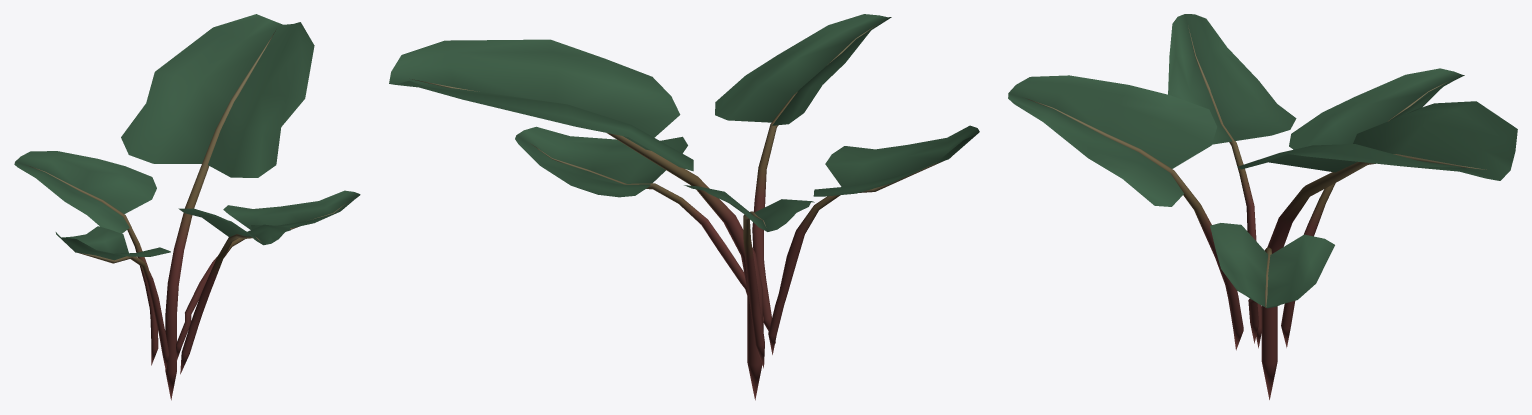
File: plants-leafy-plants-elephant-ear_v1.glb
3 renders of one model, left to right at view 1: azimuth 30°, elevation 25°; view 2: azimuth 150°, elevation 25°; view 3: azimuth 270°, elevation 25°, orthographic. The views are drawn at different scales.
Visible parts, largest first — view 1: Elephant Ear_v1; view 2: Elephant Ear_v1; view 3: Elephant Ear_v1.
Boxes of the visible parts, x1,y1,x2,y2 form: Elephant Ear_v1: [14, 14, 360, 400]; Elephant Ear_v1: [389, 14, 979, 400]; Elephant Ear_v1: [1008, 14, 1517, 399].
Size of the model in its own units: 1 by 0.7572 by 0.96.
